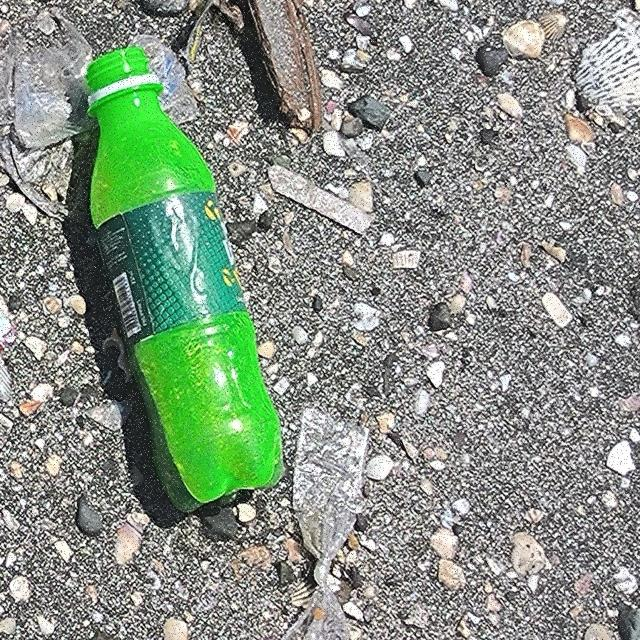plastic_waste: (87, 46, 285, 514)
